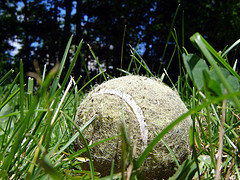tennis ball: (71, 74, 197, 170)
